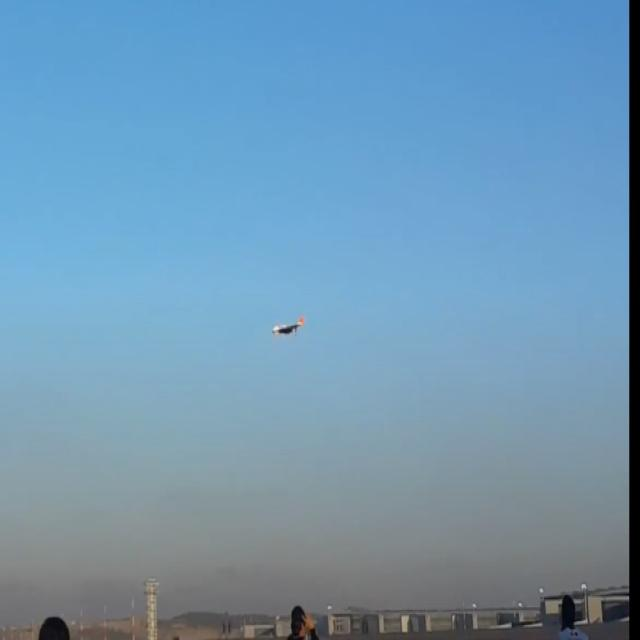iha: (271, 308, 306, 334)
